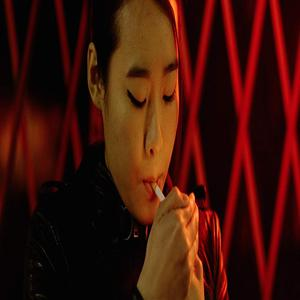cigarette: (149, 180, 168, 203)
